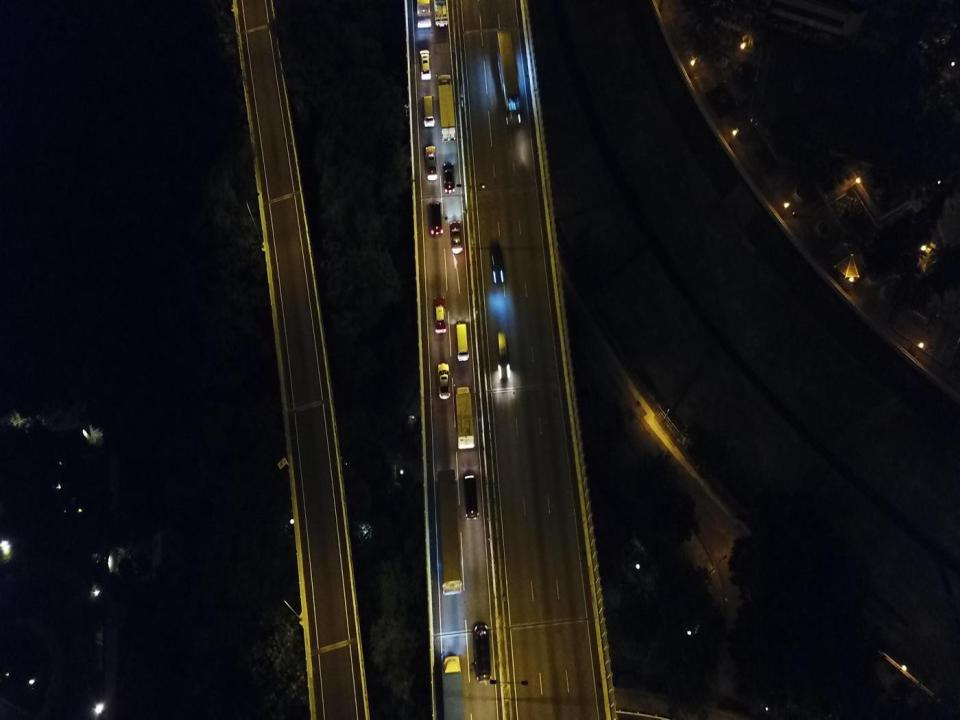bus: (495, 28, 522, 126)
car: (471, 622, 492, 682), (462, 471, 480, 521), (489, 240, 505, 284), (496, 332, 510, 379), (428, 200, 444, 237), (437, 362, 451, 400), (433, 296, 447, 334), (424, 144, 438, 180), (449, 219, 462, 254), (442, 160, 455, 195), (418, 48, 432, 80)
truck: (436, 469, 463, 595), (440, 655, 465, 719), (452, 386, 474, 450), (437, 73, 456, 143), (416, 0, 432, 29), (433, 0, 449, 27)
van: (455, 321, 470, 362), (421, 94, 435, 128)
